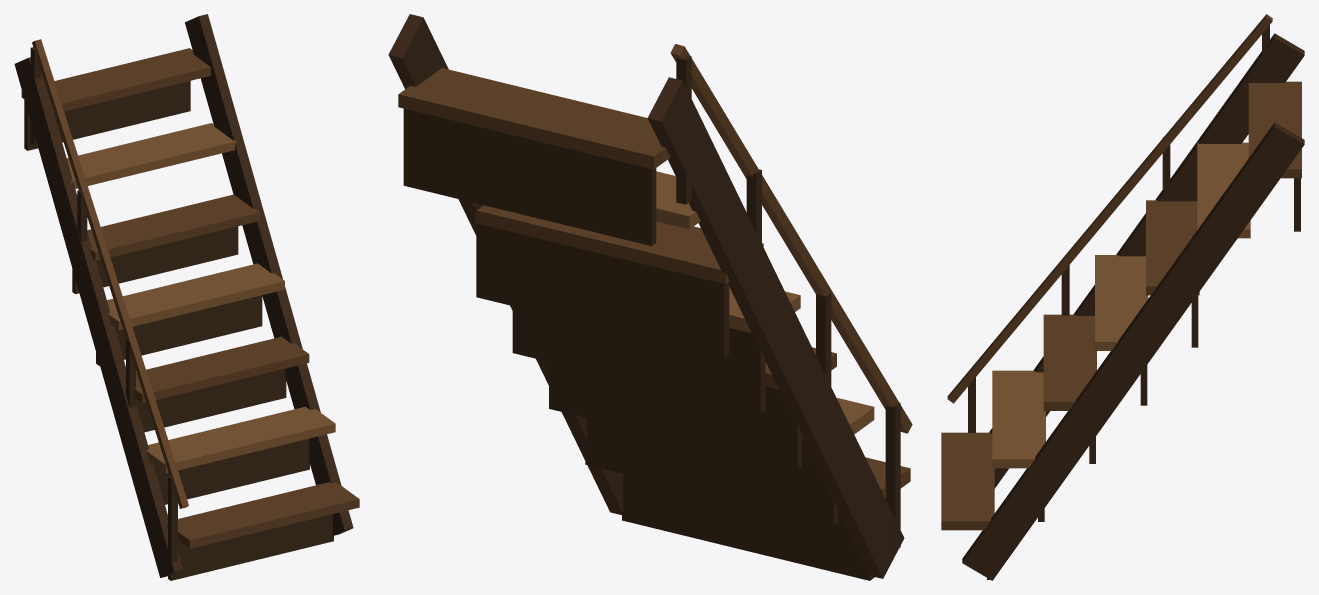
The model's file is jail_stairs_wood.obj.
The picture shows the model from 3 angles, left to right: view 1: azimuth 30°, elevation 25°; view 2: azimuth 150°, elevation 25°; view 3: azimuth 270°, elevation 25°; orthographic projection. The views are drawn at different scales.
Visible parts, largest first — view 1: geometry_13, geometry_14, geometry_11, geometry_9, geometry_5, geometry_7, geometry_3, geometry_19, geometry_2, geometry_0, geometry_12, geometry_10 (+7 smaller); view 2: geometry_13, geometry_1, geometry_4, geometry_6, geometry_8, geometry_0, geometry_10, geometry_12, geometry_3, geometry_19, geometry_14, geometry_18 (+6 smaller); view 3: geometry_14, geometry_13, geometry_11, geometry_9, geometry_19, geometry_7, geometry_5, geometry_3, geometry_0, geometry_2.
Part boxes in pixels (<box>): geometry_13: <box>14,57,183,577</box>; geometry_14: <box>185,14,353,535</box>; geometry_11: <box>166,482,359,548</box>; geometry_9: <box>146,406,335,473</box>; geometry_5: <box>107,263,284,329</box>; geometry_7: <box>134,336,309,403</box>; geometry_3: <box>87,194,259,260</box>; geometry_19: <box>32,39,188,508</box>; geometry_2: <box>67,123,236,188</box>; geometry_0: <box>21,48,210,113</box>; geometry_12: <box>168,514,333,580</box>; geometry_10: <box>153,438,309,504</box>; geometry_13: <box>647,77,904,578</box>; geometry_1: <box>403,108,656,245</box>; geometry_4: <box>476,223,729,357</box>; geometry_6: <box>512,306,765,413</box>; geometry_8: <box>549,362,801,469</box>; geometry_0: <box>398,68,670,169</box>; geometry_10: <box>585,418,838,524</box>; geometry_12: <box>622,474,874,580</box>; geometry_3: <box>475,205,763,284</box>; geometry_19: <box>670,44,912,433</box>; geometry_14: <box>388,14,623,514</box>; geometry_18: <box>885,402,900,550</box>; geometry_14: <box>962,122,1304,580</box>; geometry_13: <box>989,33,1304,488</box>; geometry_11: <box>941,432,994,530</box>; geometry_9: <box>992,370,1045,468</box>; geometry_19: <box>947,14,1272,403</box>; geometry_7: <box>1043,314,1096,410</box>; geometry_5: <box>1095,255,1148,350</box>; geometry_3: <box>1146,200,1199,295</box>; geometry_0: <box>1248,81,1301,178</box>; geometry_2: <box>1197,142,1250,238</box>.
Bounding box in the file's own units: 0.9909 × 2.35 × 1.62.
